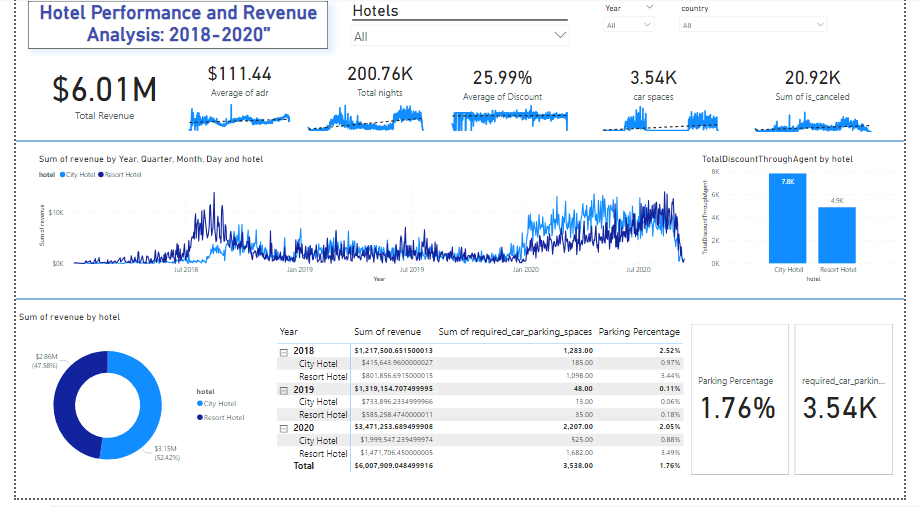

This screenshot's page, from the dashboard's own definition file:
{"tool":"powerbi","page":{"name":"Page 1","canvas":[1600,900],"ordinal":0},"visuals":[{"type":"shape","box":[0,234,1600.2,46.8],"z":0},{"type":"shape","box":[0,518.4,1600.2,46.8],"z":1000},{"type":"card","fields":{"Values":["Sum(Query1.revenue)"]},"box":[21.6,90,275.4,154.8],"z":2000},{"type":"card","fields":{"Values":["Avg(Query1.adr)"]},"box":[300,75,203.3,136.7],"z":3000},{"type":"card","fields":{"Values":["Query1.Total nights"]},"box":[561.7,75,186.7,136.7],"z":4000},{"type":"card","fields":{"Values":["Avg(Query1.Discount)"]},"box":[770,83.3,210,136.7],"z":5000},{"type":"lineChart","fields":{"Category":["Query1.reservation_status_date.Variation.Date Hierarchy.Year","Query1.reservation_status_date.Variation.Date Hierarchy.Quarter","Query1.reservation_status_date.Variation.Date Hierarchy.Month","Query1.reservation_status_date.Variation.Date Hierarchy.Day"],"Y":["Sum(Query1.revenue)"],"Series":["Query1.hotel"]},"box":[36.3,279.1,1194.1,237.8],"z":6000},{"type":"slicer","fields":{"Values":["Query1.country"]},"box":[1184.4,5.4,286.2,55.8],"z":7000},{"type":"slicer","fields":{"Values":["Query1.hotel"]},"box":[592.2,0,414,91.8],"z":8000},{"type":"lineChart","fields":{"Category":["Query1.reservation_status_date.Variation.Date Hierarchy.Year","Query1.reservation_status_date.Variation.Date Hierarchy.Quarter","Query1.reservation_status_date.Variation.Date Hierarchy.Month","Query1.reservation_status_date.Variation.Date Hierarchy.Day"],"Y":["Avg(Query1.adr)"]},"box":[296.7,176.7,210,68.3],"z":9000},{"type":"lineChart","fields":{"Category":["Query1.reservation_status_date.Variation.Date Hierarchy.Year","Query1.reservation_status_date.Variation.Date Hierarchy.Quarter","Query1.reservation_status_date.Variation.Date Hierarchy.Month","Query1.reservation_status_date.Variation.Date Hierarchy.Day"],"Y":["Query1.Total nights"]},"box":[511.7,176.7,236.7,68.3],"z":10000},{"type":"lineChart","fields":{"Category":["Query1.reservation_status_date.Variation.Date Hierarchy.Year","Query1.reservation_status_date.Variation.Date Hierarchy.Quarter","Query1.reservation_status_date.Variation.Date Hierarchy.Month","Query1.reservation_status_date.Variation.Date Hierarchy.Day"],"Y":["Avg(Query1.Discount)"]},"box":[770,176.7,236.7,68.3],"z":11000},{"type":"card","fields":{"Values":["Sum(Query1.required_car_parking_spaces)"]},"box":[1041.7,83.3,210,136.7],"z":12000},{"type":"lineChart","fields":{"Category":["Query1.reservation_status_date.Variation.Date Hierarchy.Year","Query1.reservation_status_date.Variation.Date Hierarchy.Quarter","Query1.reservation_status_date.Variation.Date Hierarchy.Month","Query1.reservation_status_date.Variation.Date Hierarchy.Day"],"Y":["Sum(Query1.required_car_parking_spaces)"]},"box":[1041.7,176.7,236.7,68.3],"z":13000},{"type":"donutChart","fields":{"Category":["Query1.hotel"],"Y":["Sum(Query1.revenue)"]},"box":[0,563.4,424.8,320.4],"z":14000},{"type":"pivotTable","fields":{"Rows":["Query1.reservation_status_date.Variation.Date Hierarchy.Year","Query1.hotel"],"Values":["Sum(Query1.revenue)","Sum(Query1.required_car_parking_spaces)","Query1.Parking Percentage"]},"box":[464.4,581.4,765,282.6],"z":15000},{"type":"card","fields":{"Values":["Sum(Query1.is_canceled)"]},"box":[1328.4,82.8,210.6,136.8],"z":16000},{"type":"lineChart","fields":{"Category":["Query1.reservation_status_date.Variation.Date Hierarchy.Year","Query1.reservation_status_date.Variation.Date Hierarchy.Quarter","Query1.reservation_status_date.Variation.Date Hierarchy.Month","Query1.reservation_status_date.Variation.Date Hierarchy.Day"],"Y":["Sum(Query1.is_canceled)"]},"box":[1315.8,178.2,237.6,68.4],"z":17000},{"type":"columnChart","fields":{"Category":["Query1.hotel"],"Y":["Query1.TotalDiscountThroughAgent"]},"box":[1229.4,279,370.8,237.6],"z":18000},{"type":"slicer","fields":{"Values":["Query1.reservation_status_date.Variation.Date Hierarchy.Year"]},"box":[1047.6,5.4,111.6,63],"z":19000},{"type":"cardVisual","fields":{"Data":["Query1.Parking Percentage","Sum(Query1.required_car_parking_spaces)"]},"box":[1209.6,581.4,374.4,282.6],"z":20000},{"type":"textbox","title":"Hotel Performance and Revenue Analysis: 2018-2020\"","box":[21.6,5.4,540,86.4],"z":20001}]}

Visuals, with their boxes in screenshot pixels (x1, y1, x2, y2), scaled from the page's 1600x900 canvas onto the 921x507 screenshot:
shape: bbox=(0, 132, 920, 158)
shape: bbox=(0, 292, 920, 318)
card - Sum(Query1.revenue): bbox=(12, 51, 171, 138)
card - Avg(Query1.adr): bbox=(173, 42, 290, 119)
card - Query1.Total nights: bbox=(323, 42, 431, 119)
card - Avg(Query1.Discount): bbox=(443, 47, 564, 124)
lineChart - Query1.reservation_status_date.Variation.Date Hierarchy.Year x Query1.reservation_status_date.Variation.Date Hierarchy.Quarter: bbox=(21, 157, 708, 291)
slicer - Query1.country: bbox=(682, 3, 847, 34)
slicer - Query1.hotel: bbox=(341, 0, 579, 52)
lineChart - Query1.reservation_status_date.Variation.Date Hierarchy.Year x Query1.reservation_status_date.Variation.Date Hierarchy.Quarter: bbox=(171, 100, 292, 138)
lineChart - Query1.reservation_status_date.Variation.Date Hierarchy.Year x Query1.reservation_status_date.Variation.Date Hierarchy.Quarter: bbox=(295, 100, 431, 138)
lineChart - Query1.reservation_status_date.Variation.Date Hierarchy.Year x Query1.reservation_status_date.Variation.Date Hierarchy.Quarter: bbox=(443, 100, 579, 138)
card - Sum(Query1.required_car_parking_spaces): bbox=(600, 47, 721, 124)
lineChart - Query1.reservation_status_date.Variation.Date Hierarchy.Year x Query1.reservation_status_date.Variation.Date Hierarchy.Quarter: bbox=(600, 100, 736, 138)
donutChart - Query1.hotel x Sum(Query1.revenue): bbox=(0, 317, 245, 498)
pivotTable - Query1.reservation_status_date.Variation.Date Hierarchy.Year x Query1.hotel: bbox=(267, 328, 708, 487)
card - Sum(Query1.is_canceled): bbox=(765, 47, 886, 124)
lineChart - Query1.reservation_status_date.Variation.Date Hierarchy.Year x Query1.reservation_status_date.Variation.Date Hierarchy.Quarter: bbox=(757, 100, 894, 139)
columnChart - Query1.hotel x Query1.TotalDiscountThroughAgent: bbox=(708, 157, 920, 291)
slicer - Query1.reservation_status_date.Variation.Date Hierarchy.Year: bbox=(603, 3, 667, 39)
cardVisual - Query1.Parking Percentage x Sum(Query1.required_car_parking_spaces): bbox=(696, 328, 912, 487)
"Hotel Performance and Revenue Analysis: 2018-2020"" textbox: bbox=(12, 3, 323, 52)
